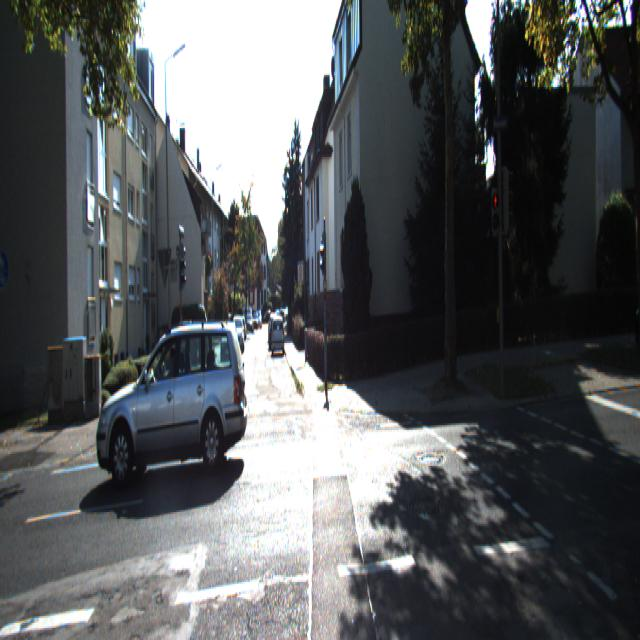Car: (92, 318, 248, 488), (220, 321, 238, 363), (270, 315, 284, 357)
